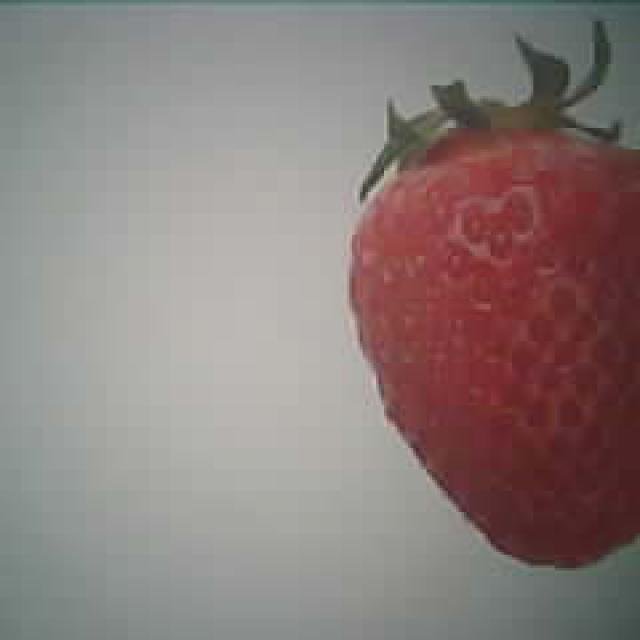strawberry: (349, 117, 640, 572)
